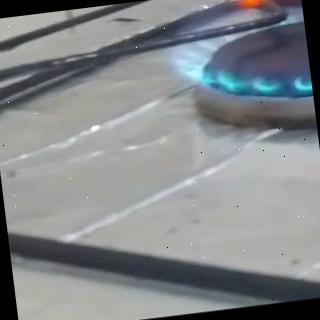fire: (153, 0, 313, 112)
